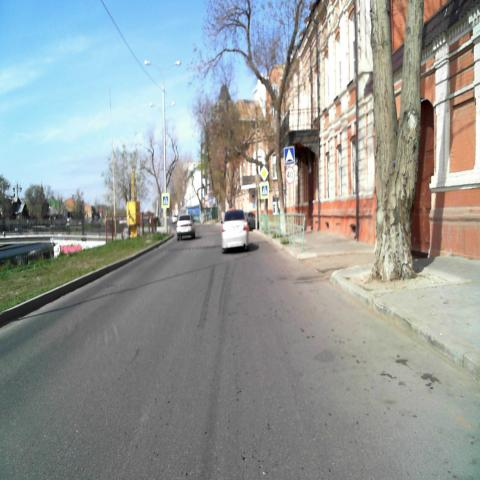3_24: (286, 166, 296, 184)
